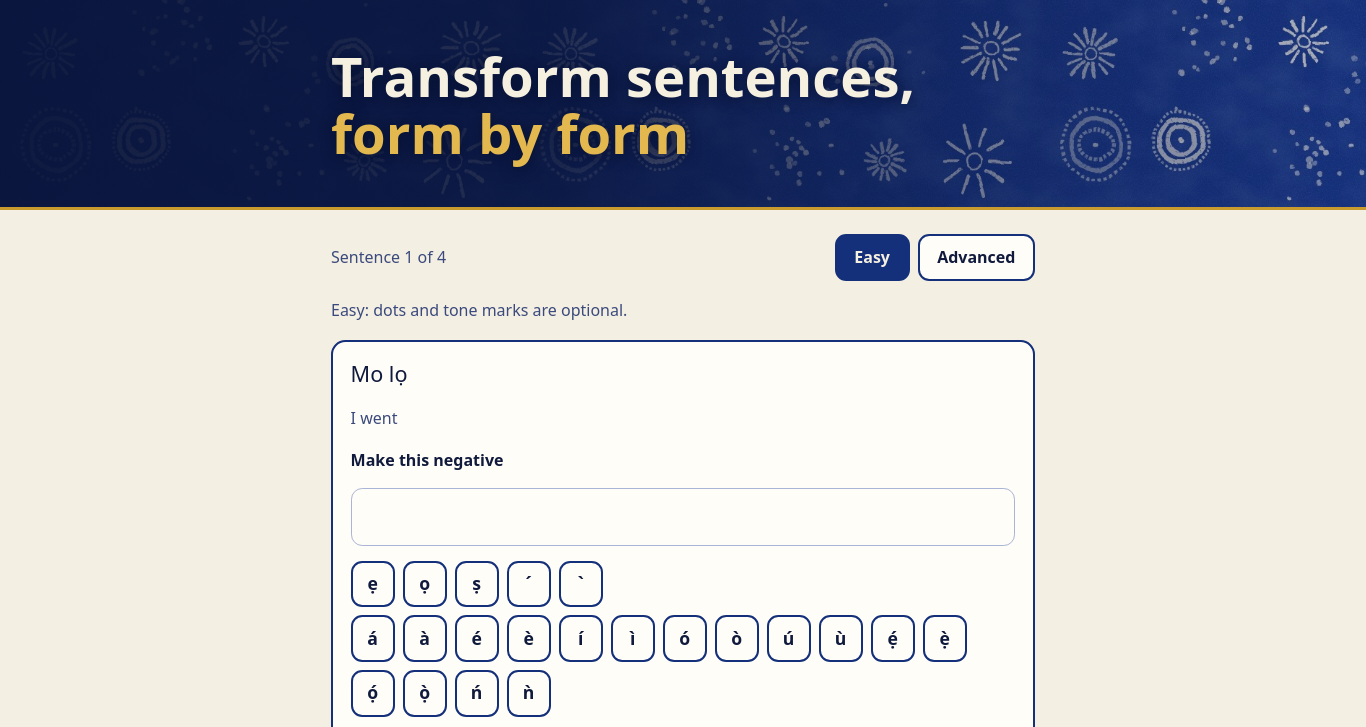
Test case: Transform page › marks an exact answer correct and reveals the model answer and rule
Click the button "Advanced" at (976, 258), box x1=918 y1=234 x2=1035 y2=281
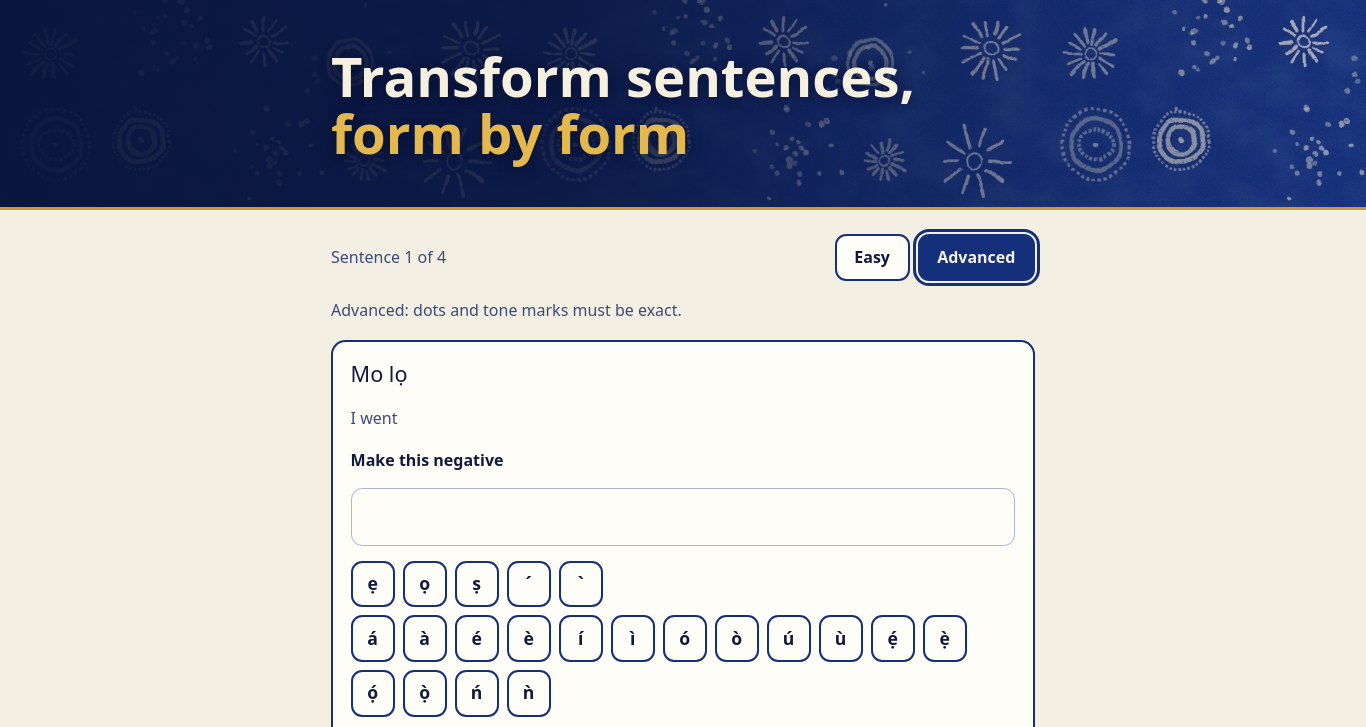
Type "Mi ò lọ" into the field with test id "transform-input" at (683, 517), box x1=351 y1=488 x2=1015 y2=546
(page scrolled)
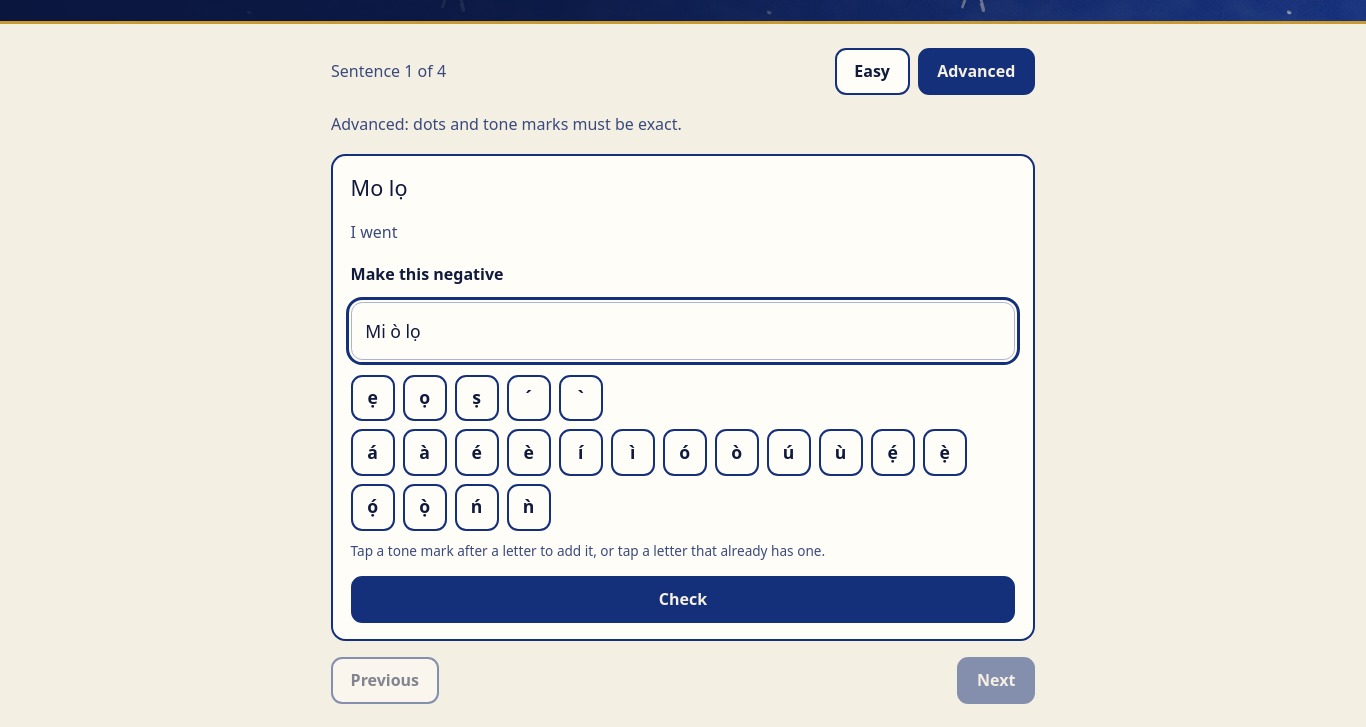
Click the button "Check" at (683, 600), box x1=351 y1=576 x2=1015 y2=623
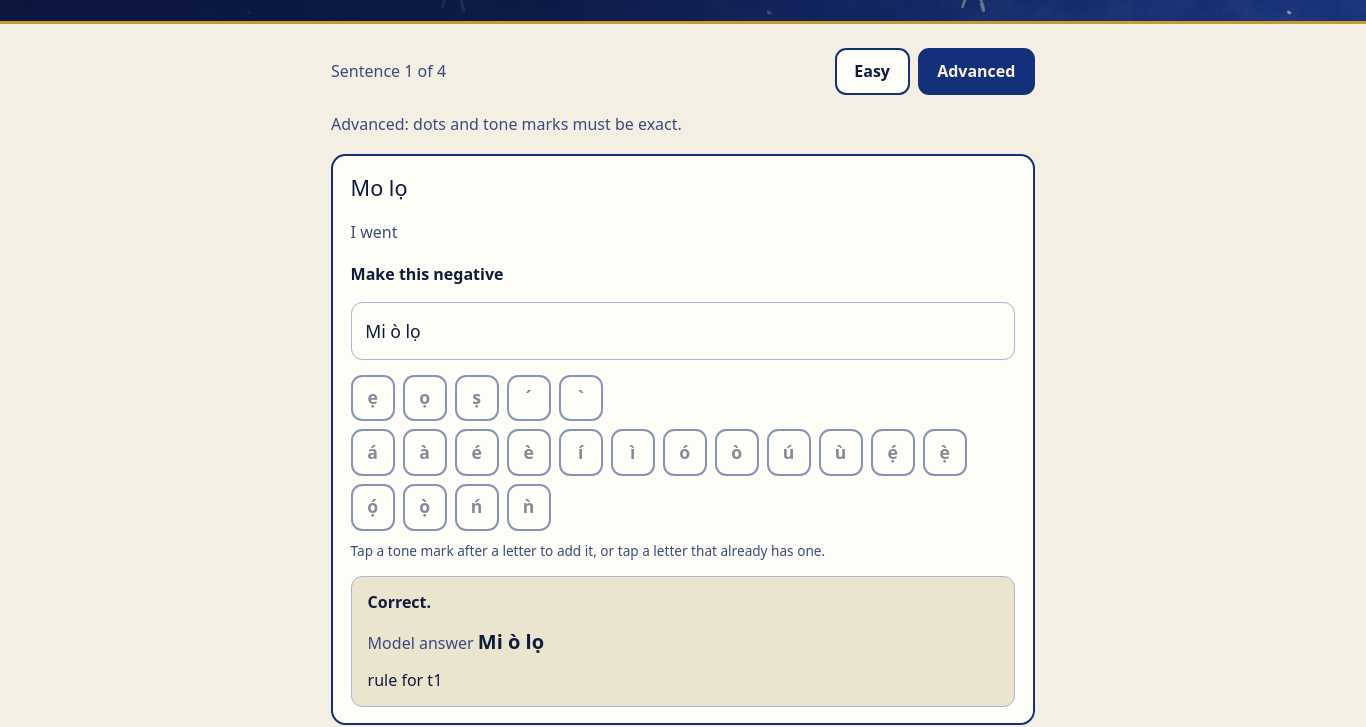
Check: the message with test id "transform-result" shows "Correct", box x1=368 y1=591 x2=431 y2=613
Check: the element with test id "transform-reveal" shows "Mi ò lọ", box x1=478 y1=628 x2=544 y2=655
Check: the element with test id "transform-reveal" shows "rule for t1", box x1=368 y1=669 x2=442 y2=691
